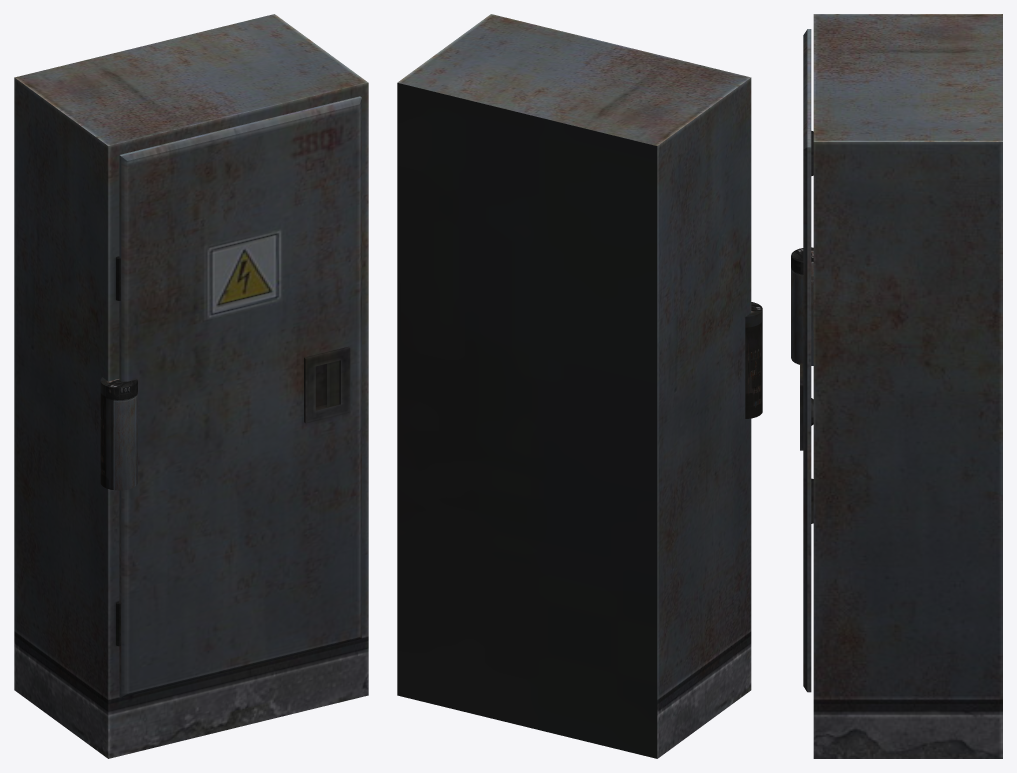
File: tech_electric_cabinet.dae
3 renders of one model, left to right at view 1: azimuth 30°, elevation 25°; view 2: azimuth 150°, elevation 25°; view 3: azimuth 270°, elevation 25°, orthographic.
Parts seen in each view (by area): view 1: Door, Box, _joint_hinge_Door_Box_100_0_nocollide_joint1; view 2: Box, _joint_hinge_Door_Box_100_0_nocollide_joint1; view 3: Box, Door, _joint_hinge_Door_Box_100_0_nocollide_joint1.
Part boxes in pixels (<box>): Door: <box>116,96,361,697</box>; Box: <box>14,14,368,758</box>; _joint_hinge_Door_Box_100_0_nocollide_joint1: <box>100,377,137,490</box>; Box: <box>397,14,751,758</box>; _joint_hinge_Door_Box_100_0_nocollide_joint1: <box>745,302,762,418</box>; Box: <box>813,14,1002,758</box>; Door: <box>800,29,813,692</box>; _joint_hinge_Door_Box_100_0_nocollide_joint1: <box>791,247,813,365</box>.
Size of what is drawn, in the model's own units: 0.822 by 1.8 by 0.5597.
